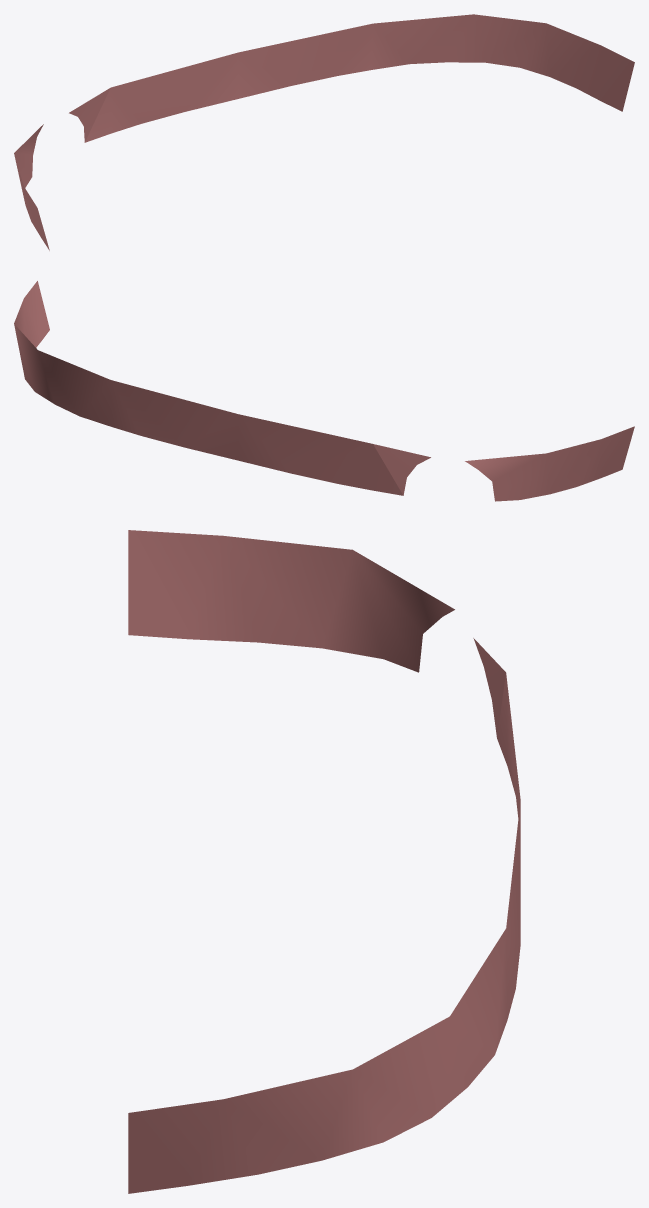
Rendered from MX5_RB01_Trim.fbx.
3 views of the same model, one above another, from view 1: azimuth 30°, elevation 25°; view 2: azimuth 150°, elevation 25°; view 3: azimuth 270°, elevation 25° (orthographic). The views are drawn at different scales.
Parts seen in each view (by area): view 1: MX5_RB01_Trim; view 2: MX5_RB01_Trim; view 3: MX5_RB01_Trim.
Boxes of the visible parts, x1=… form: MX5_RB01_Trim: x1=14, y1=14, x2=634, y2=250; MX5_RB01_Trim: x1=14, y1=281, x2=634, y2=501; MX5_RB01_Trim: x1=128, y1=530, x2=520, y2=1193.
Size of the model in its own units: 137 by 12.58 by 38.9.
